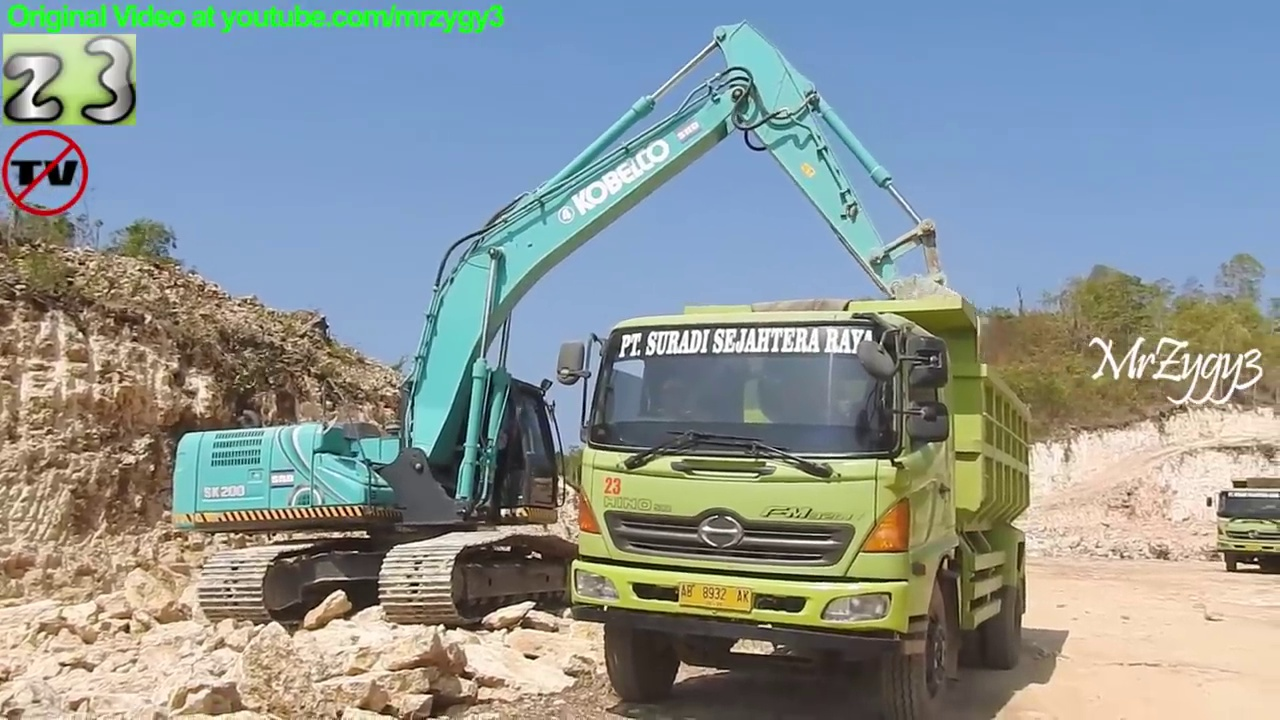excavator: (164, 12, 993, 637)
truck: (548, 286, 1042, 720), (1202, 469, 1280, 578)
